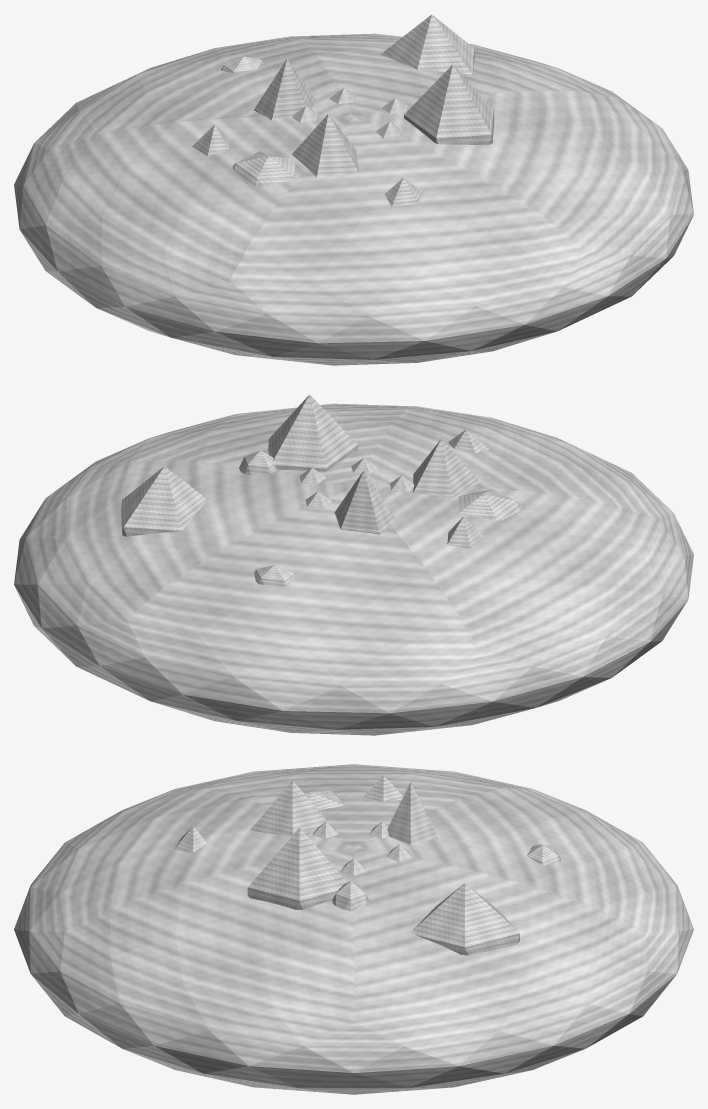
Rendered from iron_ore_node_variant_b.glb.
The picture shows the model from 3 angles, top to bottom: view 1: azimuth 30°, elevation 25°; view 2: azimuth 150°, elevation 25°; view 3: azimuth 270°, elevation 25°; orthographic projection.
Parts seen in each view (by area): view 1: Resource node bedrock.001, Exposed ore formation.020, Exposed ore formation.011, Exposed ore formation.017, Exposed ore formation.014, Exposed ore formation.016, Exposed ore formation.018, Exposed ore formation.015; view 2: Resource node bedrock.001, Exposed ore formation.020, Exposed ore formation.011, Exposed ore formation.017, Exposed ore formation.014, Exposed ore formation.016, Exposed ore formation.015, Exposed ore formation.010, Exposed ore formation.013, Exposed ore formation.018; view 3: Resource node bedrock.001, Exposed ore formation.020, Exposed ore formation.011, Exposed ore formation.017, Exposed ore formation.014, Exposed ore formation.010, Exposed ore formation.015, Exposed ore formation.016, Exposed ore formation.013, Exposed ore formation.018.
Part boxes in pixels (x1,y1,x2,y2): Resource node bedrock.001: [14, 33, 693, 365]; Exposed ore formation.020: [404, 64, 494, 145]; Exposed ore formation.011: [380, 14, 475, 74]; Exposed ore formation.017: [292, 114, 359, 177]; Exposed ore formation.014: [254, 58, 316, 120]; Exposed ore formation.016: [232, 151, 296, 186]; Exposed ore formation.018: [384, 177, 421, 206]; Exposed ore formation.015: [192, 124, 229, 155]; Resource node bedrock.001: [14, 403, 693, 735]; Exposed ore formation.020: [268, 394, 358, 471]; Exposed ore formation.011: [121, 466, 208, 536]; Exposed ore formation.017: [413, 438, 480, 497]; Exposed ore formation.014: [334, 470, 395, 534]; Exposed ore formation.016: [458, 488, 521, 521]; Exposed ore formation.015: [447, 516, 484, 549]; Exposed ore formation.010: [239, 450, 276, 474]; Exposed ore formation.013: [254, 565, 294, 586]; Exposed ore formation.018: [448, 429, 489, 452]; Resource node bedrock.001: [14, 764, 693, 1094]; Exposed ore formation.020: [247, 827, 347, 909]; Exposed ore formation.011: [411, 883, 519, 955]; Exposed ore formation.017: [250, 780, 330, 836]; Exposed ore formation.014: [387, 782, 438, 845]; Exposed ore formation.010: [332, 881, 368, 910]; Exposed ore formation.015: [363, 775, 403, 801]; Exposed ore formation.016: [301, 790, 343, 810]; Exposed ore formation.013: [527, 844, 561, 865]; Exposed ore formation.018: [174, 826, 207, 852].
Size of what is drawn, in the model's own units: 6.4 by 2.27 by 6.4.
2 materials, 2 textured.
